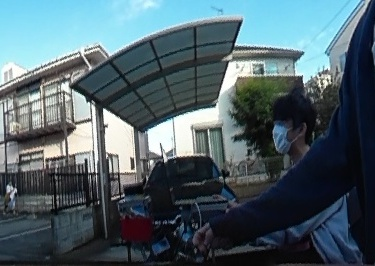person: (210, 92, 322, 266), (2, 177, 17, 214)
